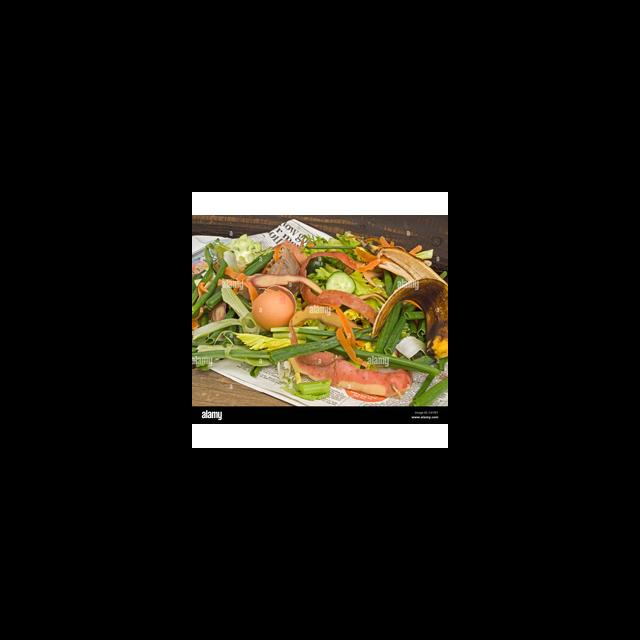food_waste: (354, 234, 448, 371), (281, 338, 415, 397), (192, 297, 279, 380), (260, 241, 356, 307), (310, 284, 382, 323), (226, 239, 285, 283), (248, 287, 293, 326), (318, 272, 359, 299)
